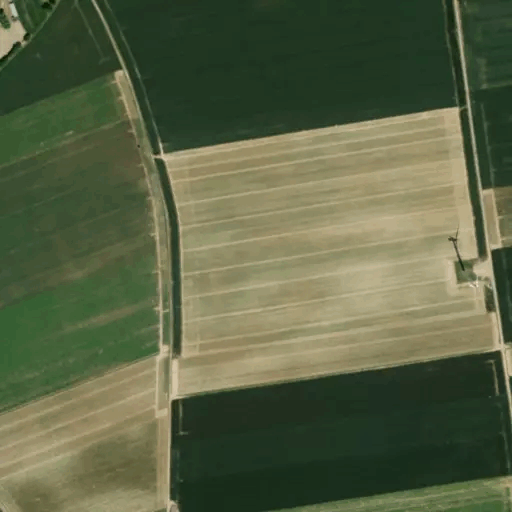wt: (445, 224, 485, 301)
